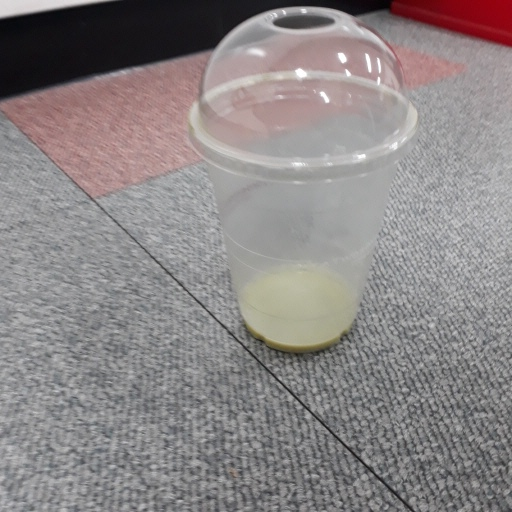Plastic_2: (185, 3, 422, 358)
